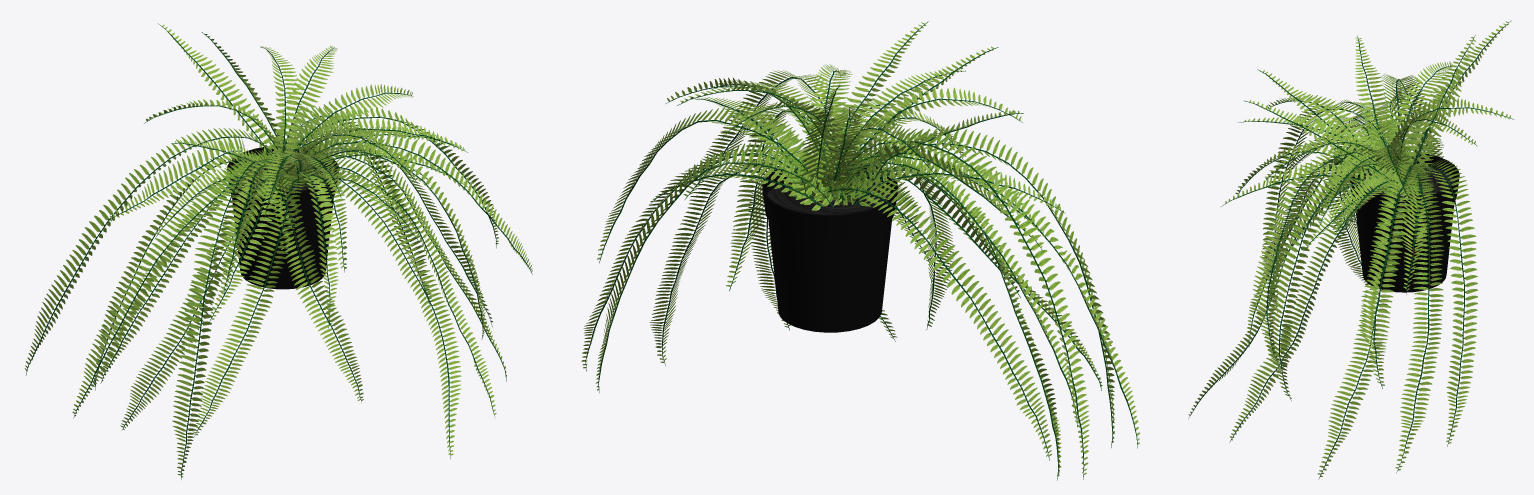
File: i_kea_fejka_helecho.glb
3 views of the same model, side by side, from view 1: azimuth 30°, elevation 25°; view 2: azimuth 150°, elevation 25°; view 3: azimuth 270°, elevation 25° (orthographic). The views are drawn at different scales.
Visible parts, largest first — view 1: Object_4, Object_6, Object_7; view 2: Object_4, Object_7, Object_6, Object_8; view 3: Object_4, Object_6, Object_7, Object_8.
Boxes of the visible parts, x1,y1,x2,y2 form: Object_4: (24, 24, 532, 477); Object_6: (26, 23, 532, 479); Object_7: (227, 146, 338, 289); Object_4: (581, 22, 1140, 476); Object_7: (762, 160, 897, 332); Object_6: (585, 21, 1137, 480); Object_8: (767, 178, 891, 214); Object_4: (1188, 21, 1510, 476); Object_6: (1188, 20, 1513, 479); Object_7: (1350, 151, 1459, 292); Object_8: (1354, 165, 1455, 197).
Bounding box in the file's own units: 0.5547 × 0.413 × 0.371.
4 materials, 2 textured.
